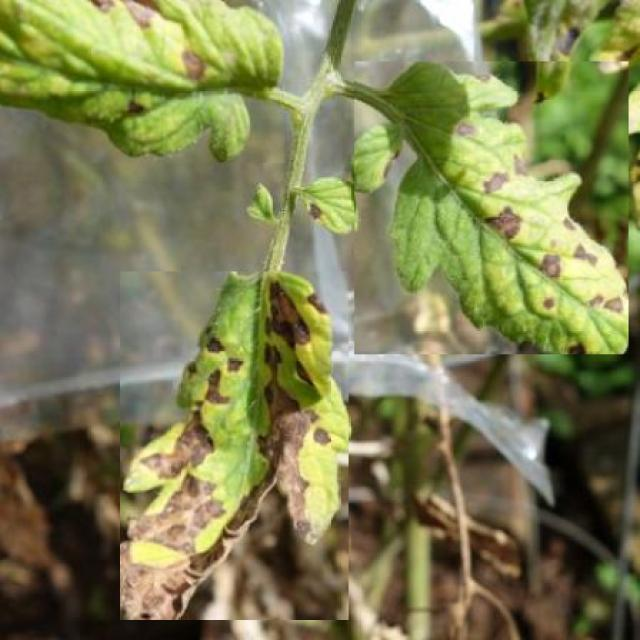Septoria: (355, 62, 629, 354), (121, 271, 349, 620), (2, 1, 284, 163)
